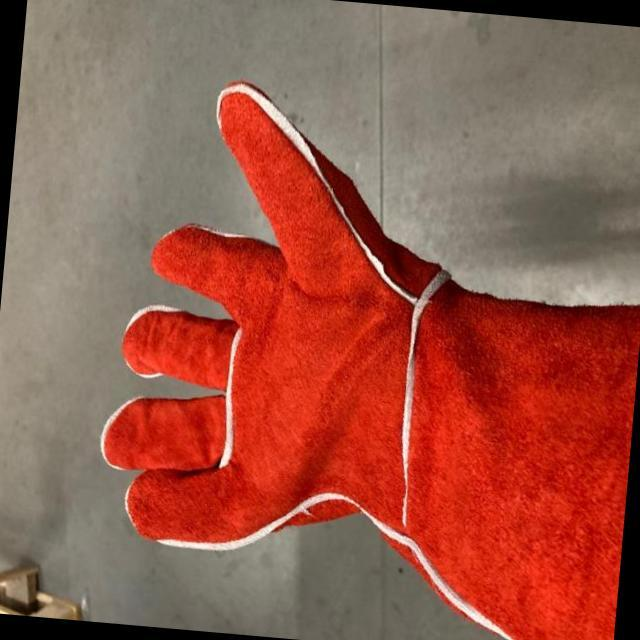glove: (96, 72, 609, 630)
